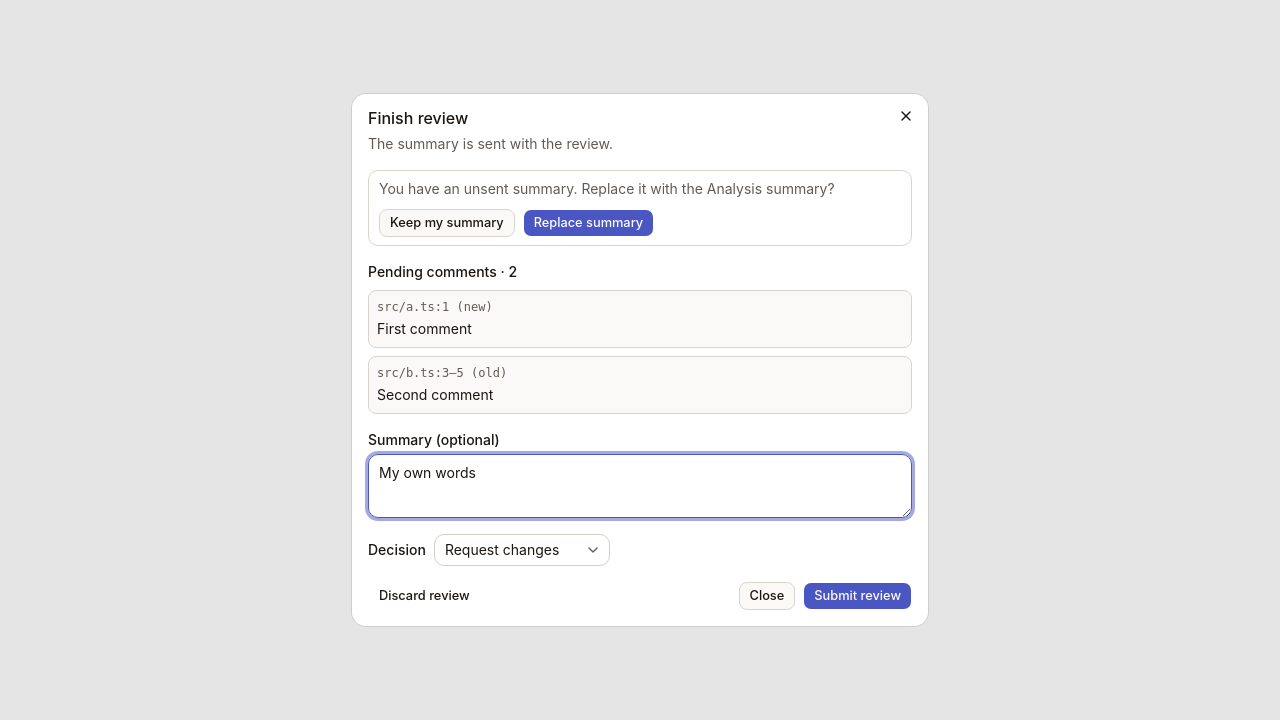
Scenario: FinishReviewDialog › asks before an Analysis summary replaces a kept one: Keep my summary
Check: the text box named "Final review summary" holds "My own words", box [368,454,912,518]
Click the button "Keep my summary" at coordinates (447, 223), box [379,209,515,237]
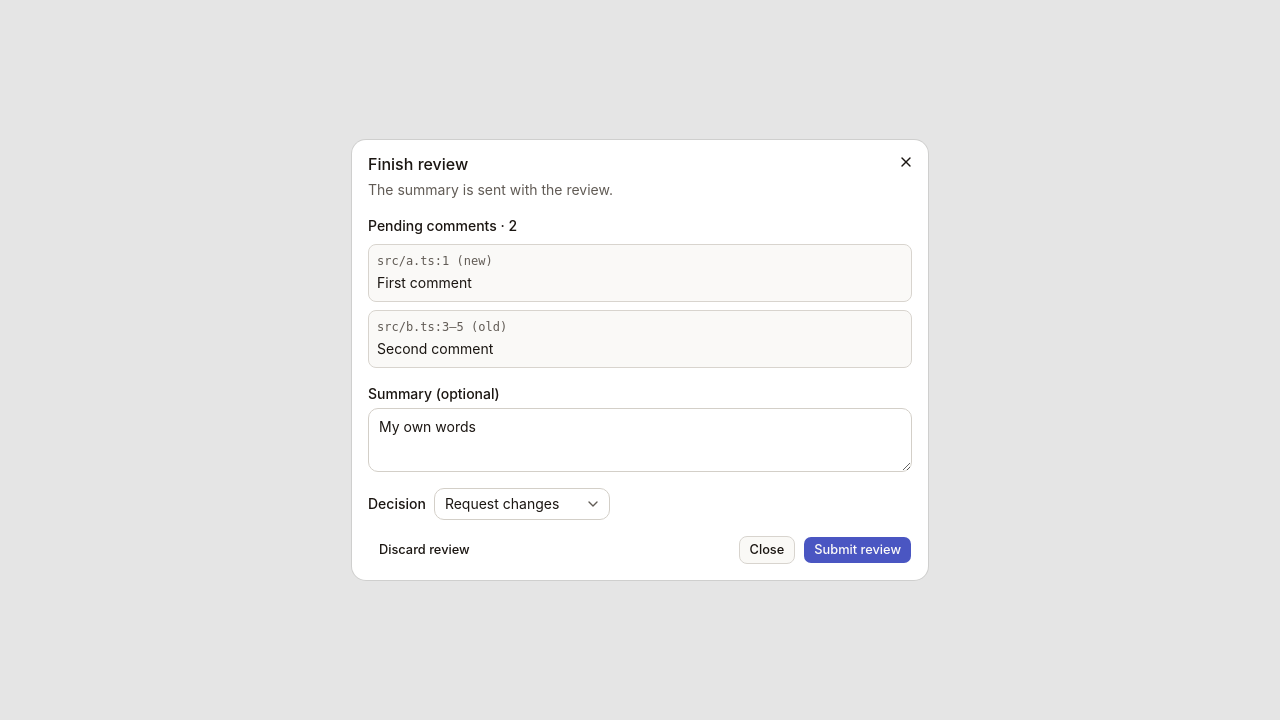
Check: the text box named "Final review summary" holds "My own words", box [368,408,912,472]
Check: the button "Replace summary" is gone
